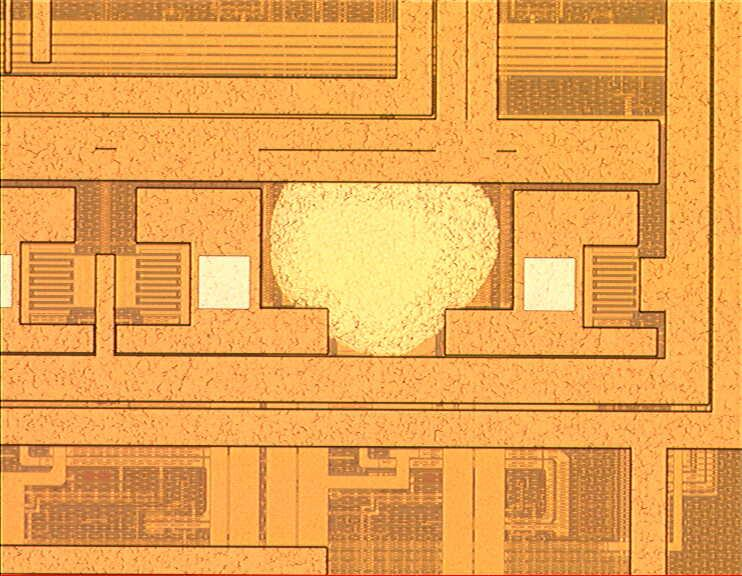BLOCK ETCH: (272, 184, 502, 358)
